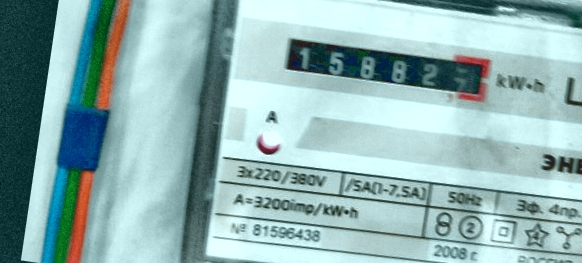1: (295, 44, 313, 71)
2: (420, 59, 440, 87)
5: (326, 48, 346, 76)
7: (451, 74, 467, 91)
8: (357, 53, 377, 79), (389, 56, 408, 83)
screen: (270, 21, 502, 113)
